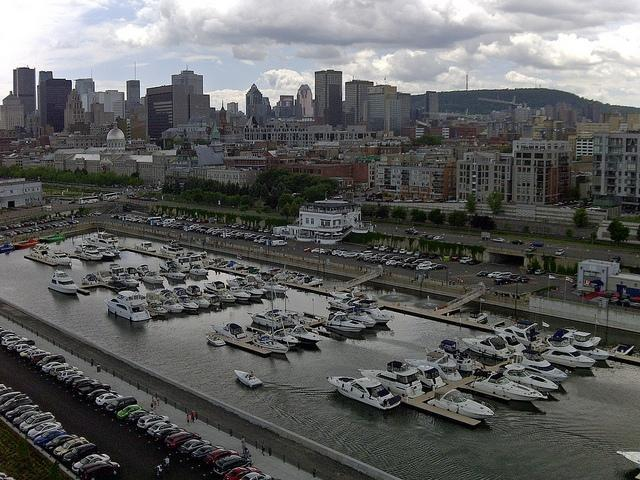bus: (79, 196, 99, 205)
car: (19, 412, 57, 432), (26, 422, 64, 440), (44, 434, 77, 454), (54, 439, 89, 457), (494, 276, 514, 286), (496, 272, 512, 279), (517, 275, 531, 283), (487, 272, 501, 279), (476, 270, 489, 276), (556, 248, 566, 255), (332, 250, 342, 256), (338, 250, 348, 256), (535, 269, 544, 274)
